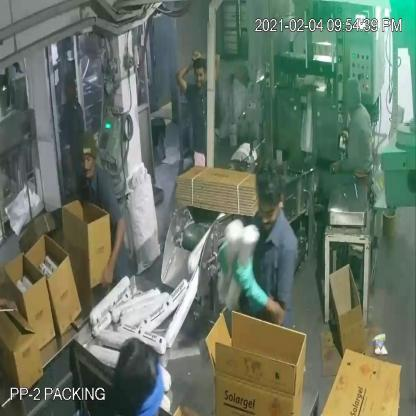glove: (237, 234, 273, 318)
no_glove: (94, 213, 129, 290), (59, 150, 85, 198), (170, 56, 194, 102), (202, 34, 221, 90)
